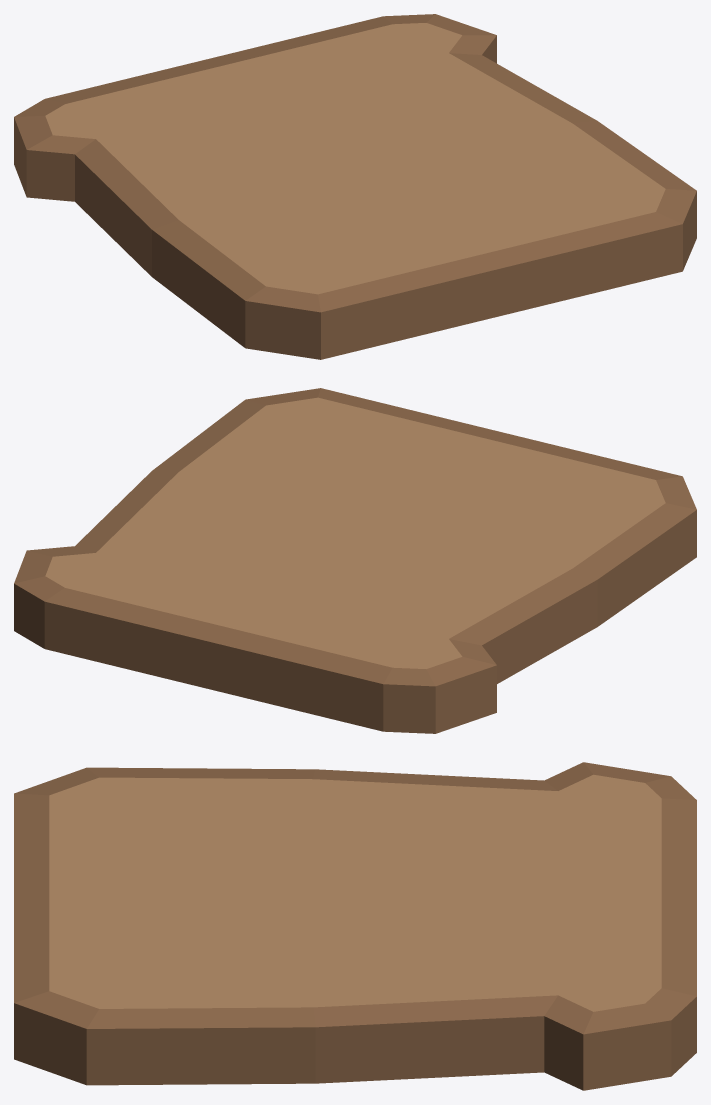
The model's file is BreadSlice.glb.
3 views of the same model, one above another, from view 1: azimuth 30°, elevation 25°; view 2: azimuth 150°, elevation 25°; view 3: azimuth 270°, elevation 25° (orthographic). The views are drawn at different scales.
Visible parts, largest first — view 1: BreadSlice; view 2: BreadSlice; view 3: BreadSlice.
Part boxes in pixels (x1,y1,x2,y2): BreadSlice: (14, 14, 696, 359); BreadSlice: (14, 388, 696, 733); BreadSlice: (14, 762, 696, 1090).
Bounding box in the file's own units: 0.1722 × 0.0196 × 0.1825.
